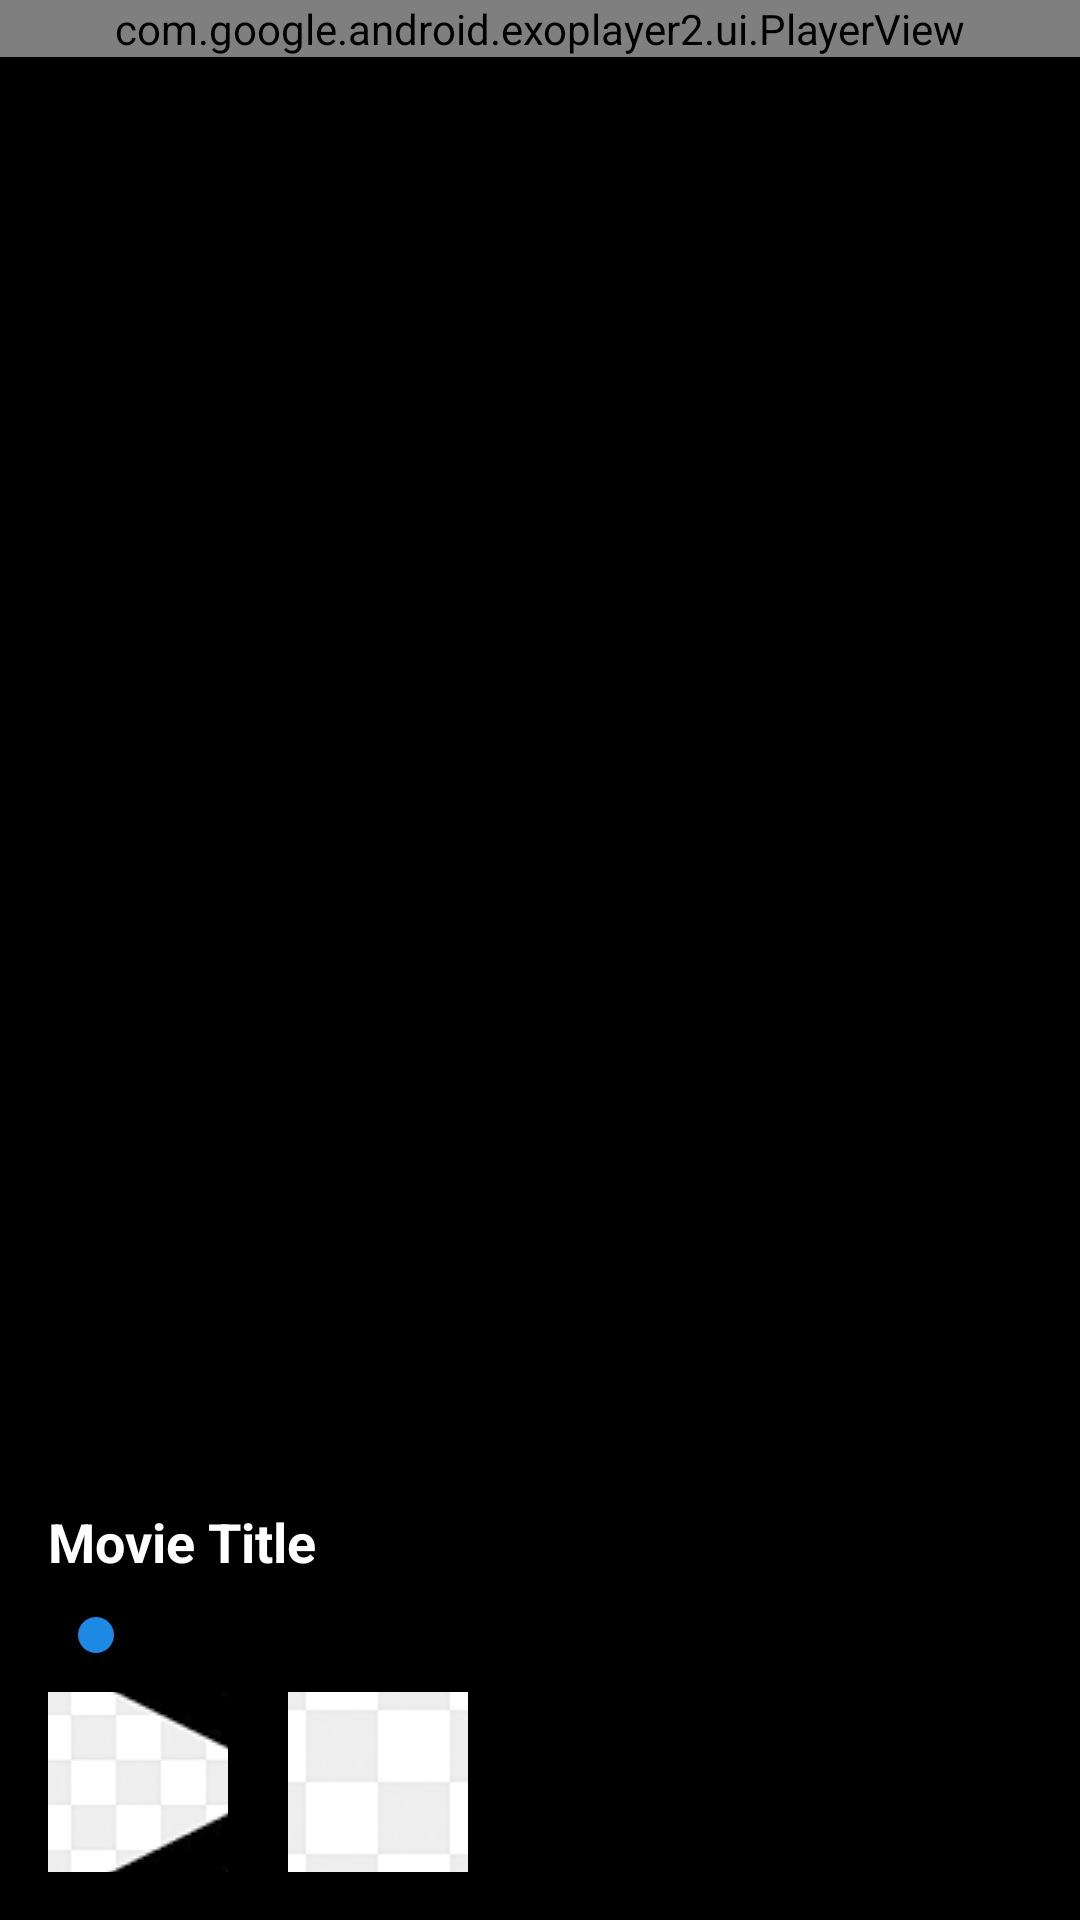

Icon click points for this 1080px×1920px phone screenshot, format (x=x, y=y):
Play: (x=138, y=1782)
